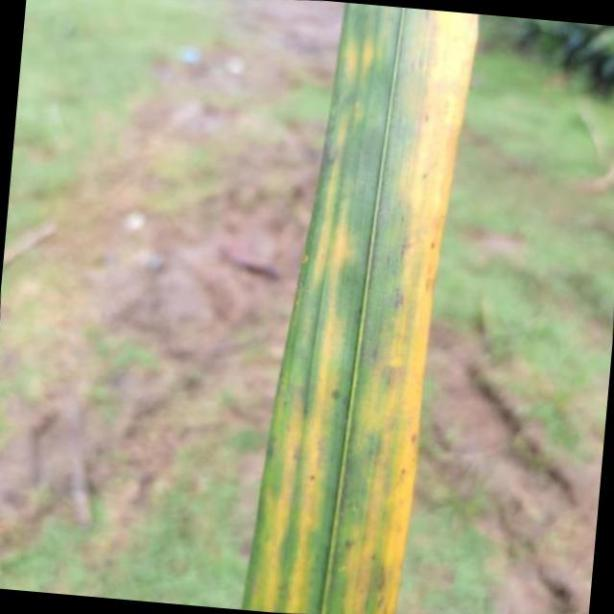Megnesium: (240, 9, 483, 614)
